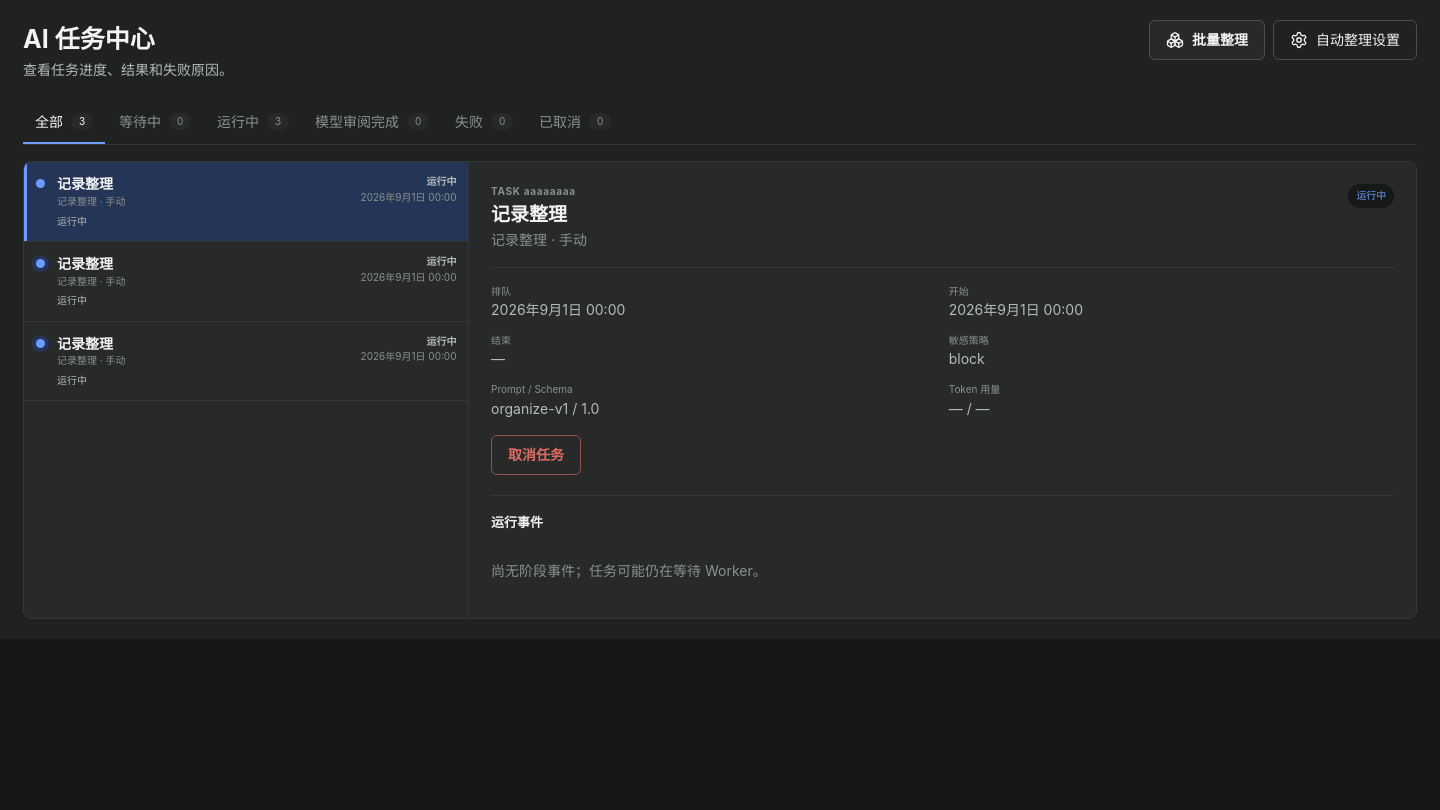
Scenario: task center selection and polling ownership › refreshes the cancelled task in place, and stays on the newer task when the cancel POST lands late
The image size is (1440, 810).
Click the button "取消任务".
click(536, 455)  # box [491,435,581,475]
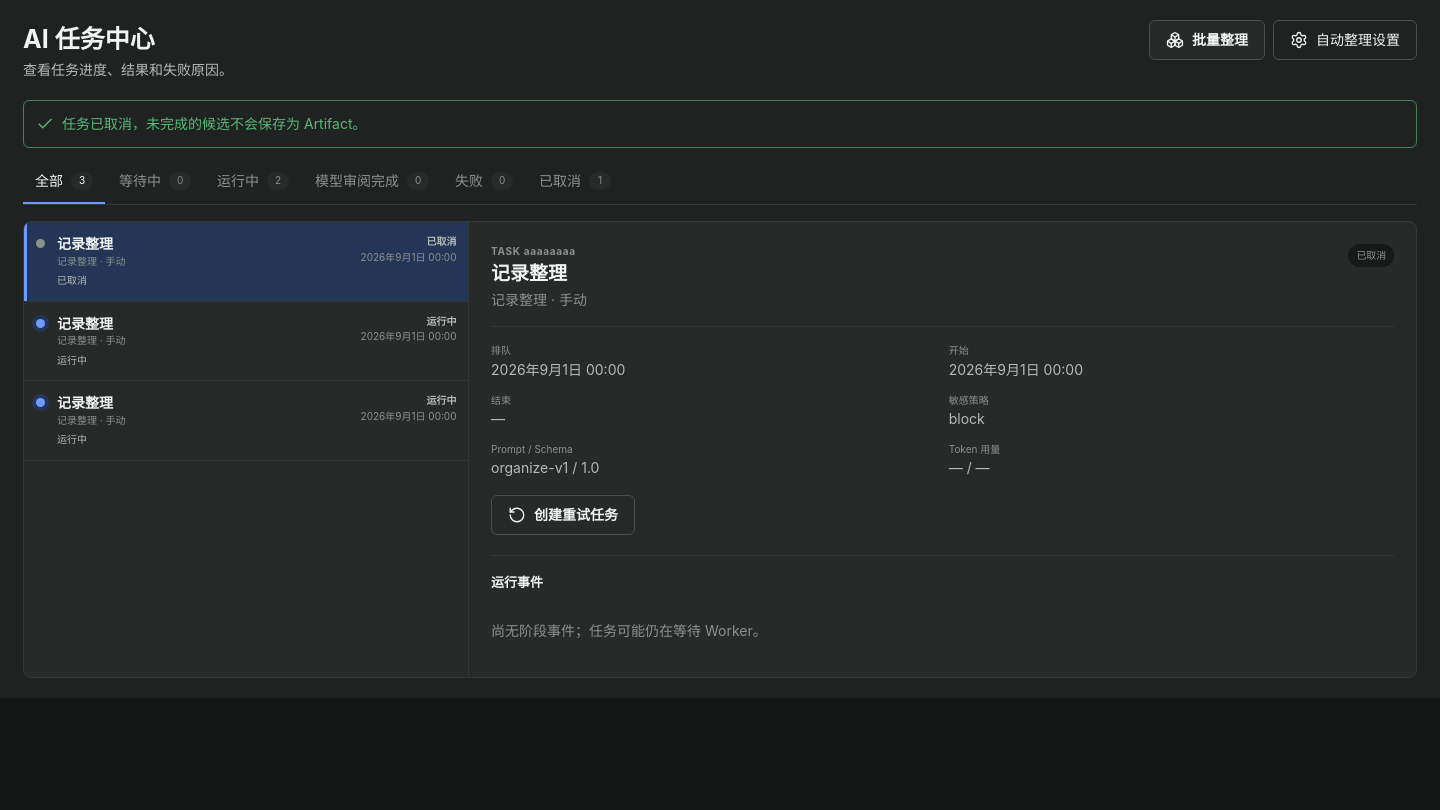
Check: the text "TASK aaaaaaaa" is shown, box [491,244,587,259]
Check: the 3rd text "已取消" is shown, box [57,274,87,286]
Check: the message with class "center-notice" shows "任务已取消", box [62,115,366,132]
Click the 1st button "记录整理 记录整理 · 手动 运行中 运行中 2026年9月1日 00:00".
click(85, 323)  # box [24,302,468,381]
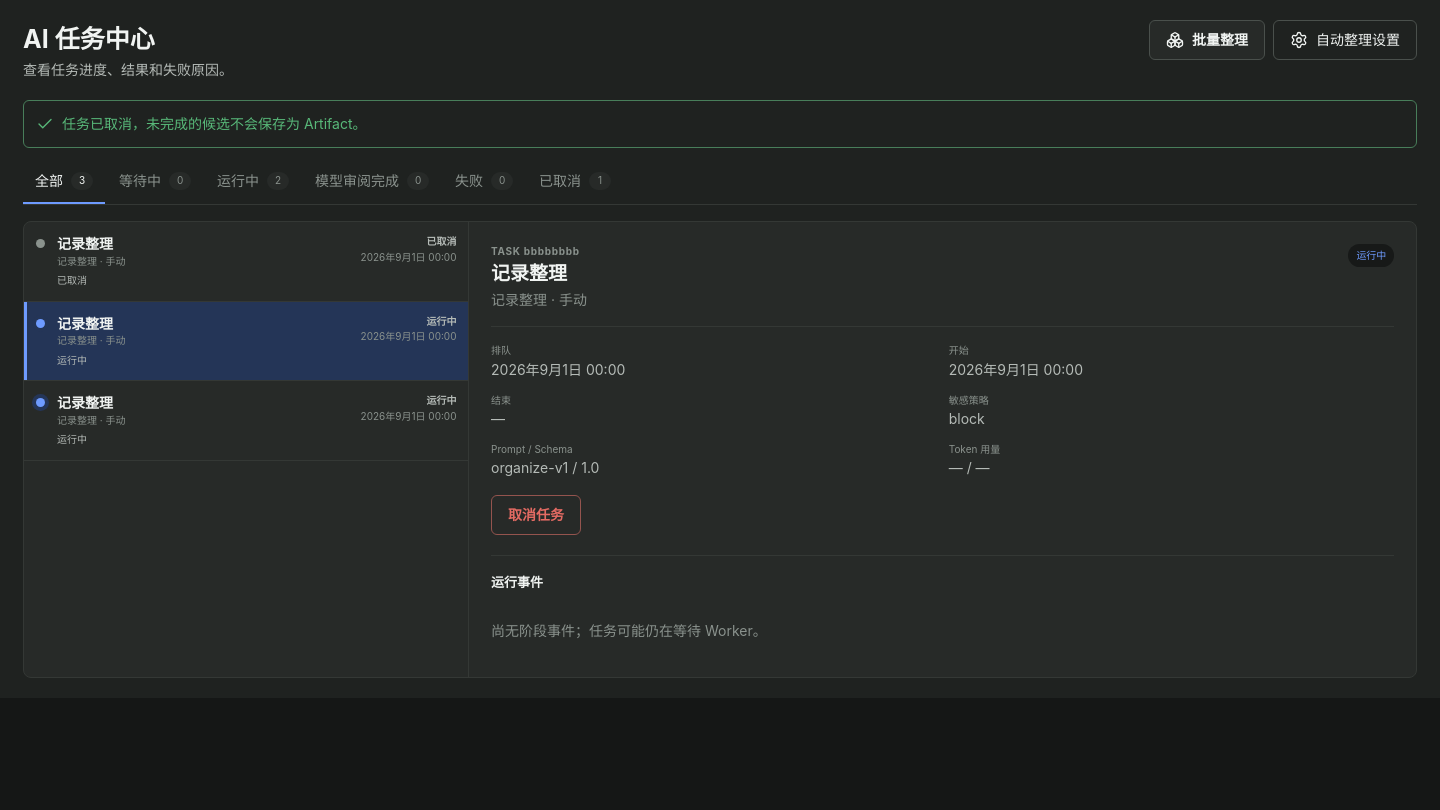
Check: the text "TASK bbbbbbbb" is shown, box [491,244,587,259]
Click the button "取消任务".
click(536, 515)  # box [491,495,581,535]
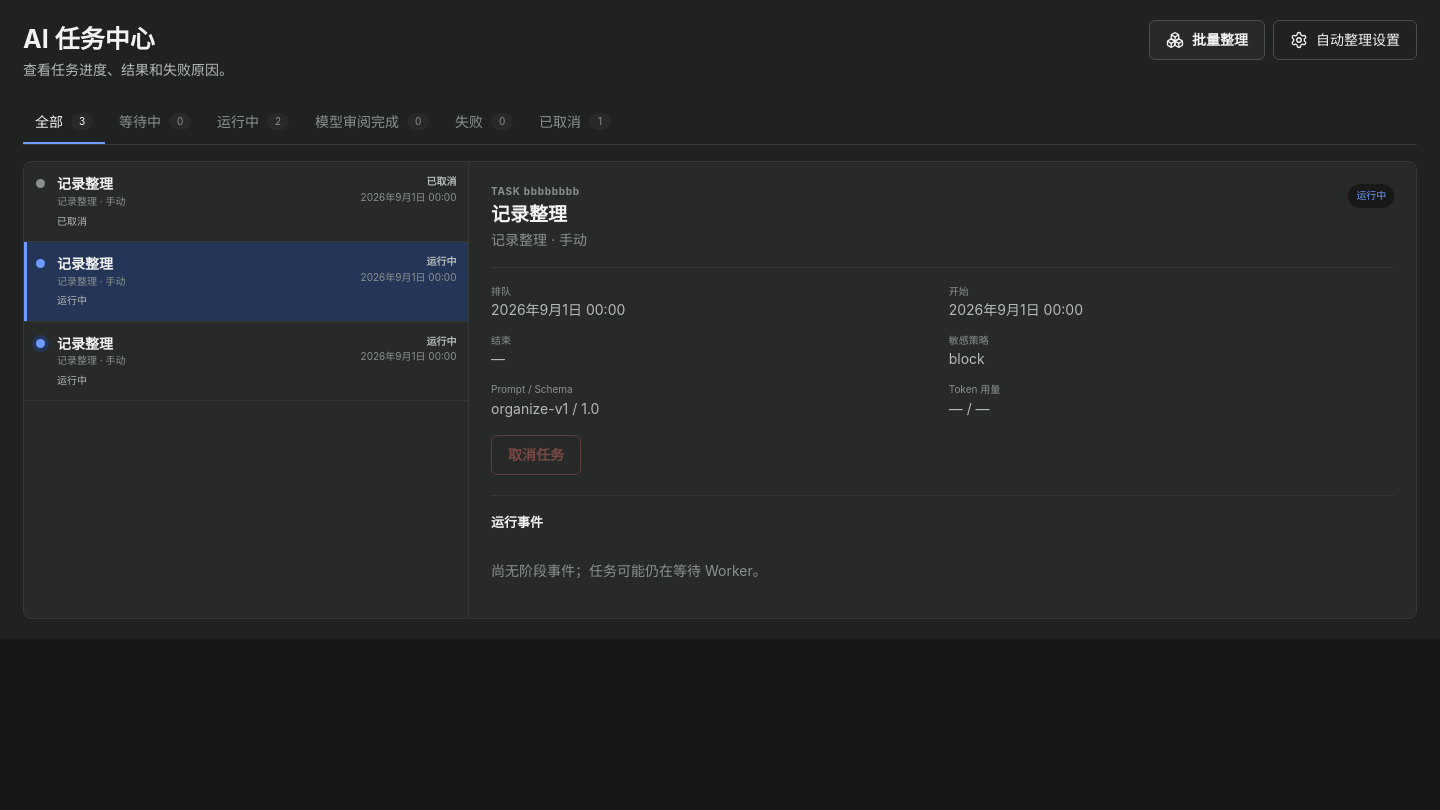
Check: the button "全部 3" is enabled, box [23,100,105,144]
Click the 2nd button "记录整理 记录整理 · 手动 运行中 运行中 2026年9月1日 00:00".
click(85, 343)  # box [24,322,468,401]
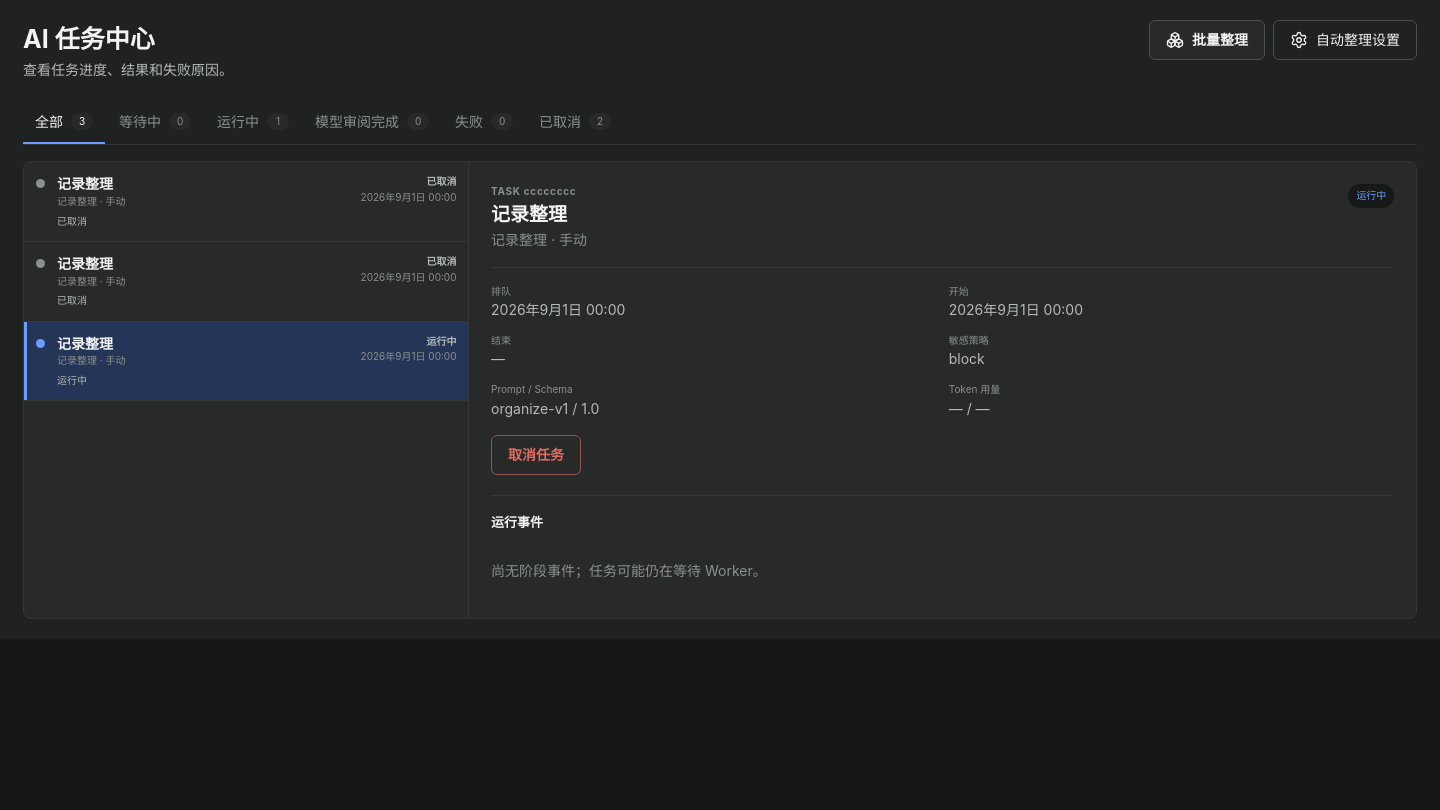
Check: the text "TASK cccccccc" is shown, box [491,184,587,200]
Check: the button "取消任务" is enabled, box [491,435,581,475]
Check: the 2nd button "记录整理 记录整理 · 手动 已取消 已取消 2026年9月1日 00:00" is shown, box [24,242,468,322]
